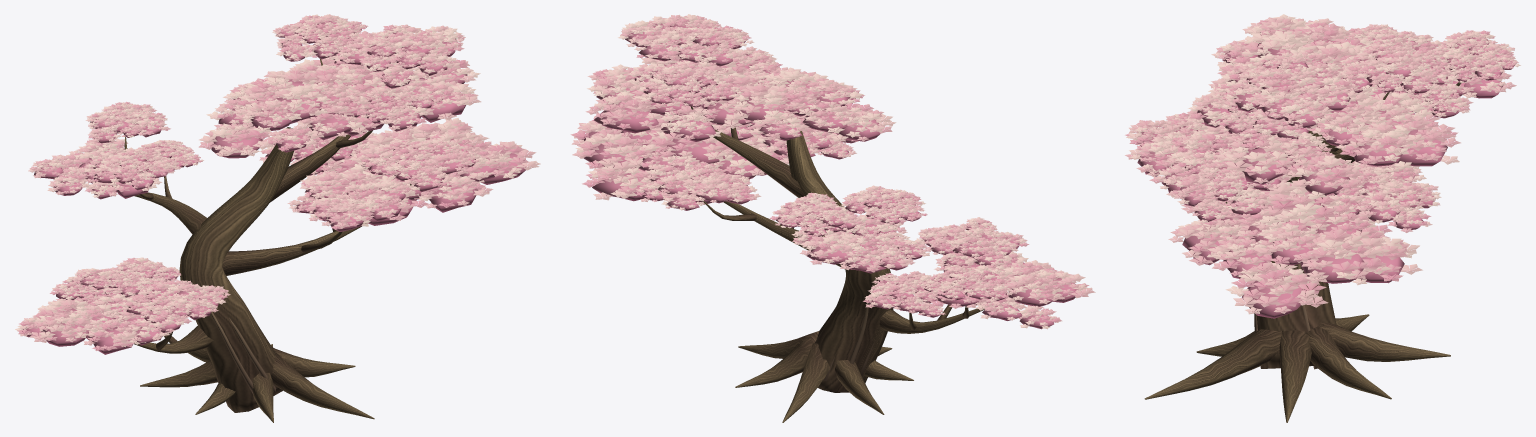
3 renders of one model, left to right at view 1: azimuth 30°, elevation 25°; view 2: azimuth 150°, elevation 25°; view 3: azimuth 270°, elevation 25°, orthographic. The views are drawn at different scales.
Visible parts, largest first — view 1: Outer_foliage, Weathered_bark, Crown_mass, Sunlit_bark_ridges; view 2: Outer_foliage, Crown_mass, Weathered_bark; view 3: Outer_foliage, Crown_mass, Weathered_bark.
Boxes of the visible parts, x1,y1,x2,y2 form: Outer_foliage: (15, 14, 540, 350); Weathered_bark: (124, 58, 411, 422); Crown_mass: (22, 21, 525, 354); Sunlit_bark_ridges: (198, 284, 276, 394); Outer_foliage: (570, 14, 1095, 329); Crown_mass: (581, 22, 1078, 329); Weathered_bark: (690, 106, 984, 422); Outer_foliage: (1125, 14, 1520, 314); Crown_mass: (1137, 26, 1514, 318); Weathered_bark: (1144, 82, 1461, 422).
Bounding box in the file's own units: 8.06 × 4.94 × 4.45.
4 materials, 1 textured.
